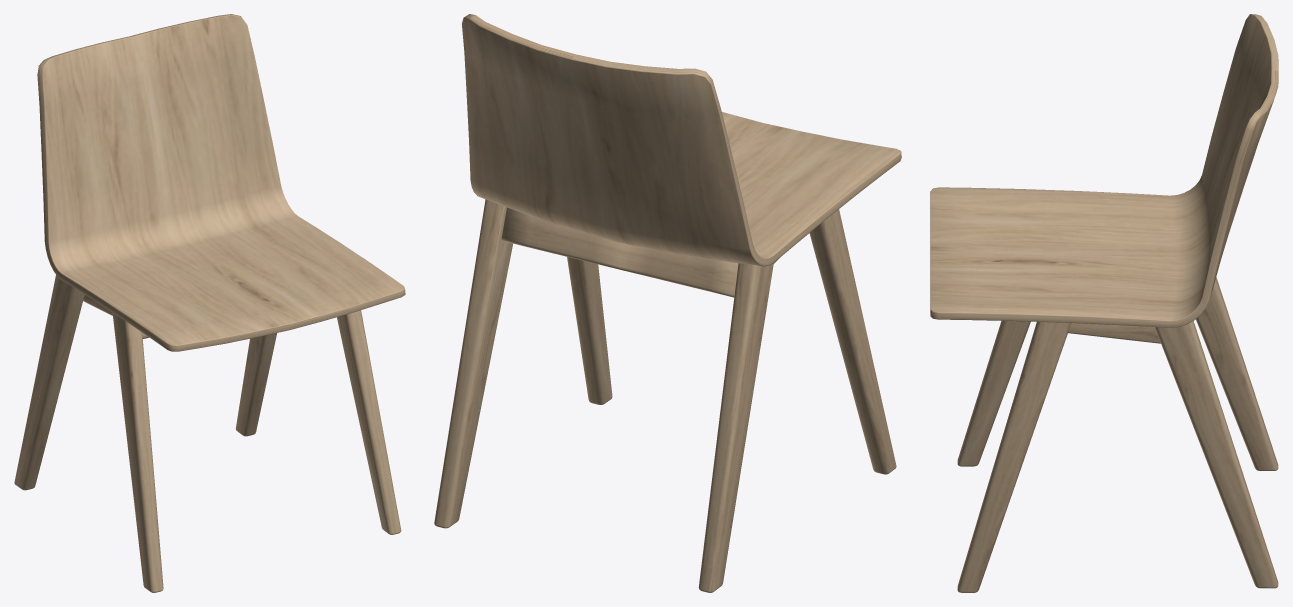
The model's file is chair_dining.glb.
The picture shows the model from 3 angles, left to right: view 1: azimuth 30°, elevation 25°; view 2: azimuth 150°, elevation 25°; view 3: azimuth 270°, elevation 25°; orthographic projection. The views are drawn at different scales.
Parts seen in each view (by area): view 1: Osaka_Plane.008; view 2: Osaka_Plane.008; view 3: Osaka_Plane.008.
Boxes of the visible parts, x1,y1,x2,y2 form: Osaka_Plane.008: (14,14,405,592); Osaka_Plane.008: (434,14,901,592); Osaka_Plane.008: (930,14,1278,592).
Bounding box in the file's own units: 0.475 × 0.77 × 0.525.
1 material, 1 textured.
